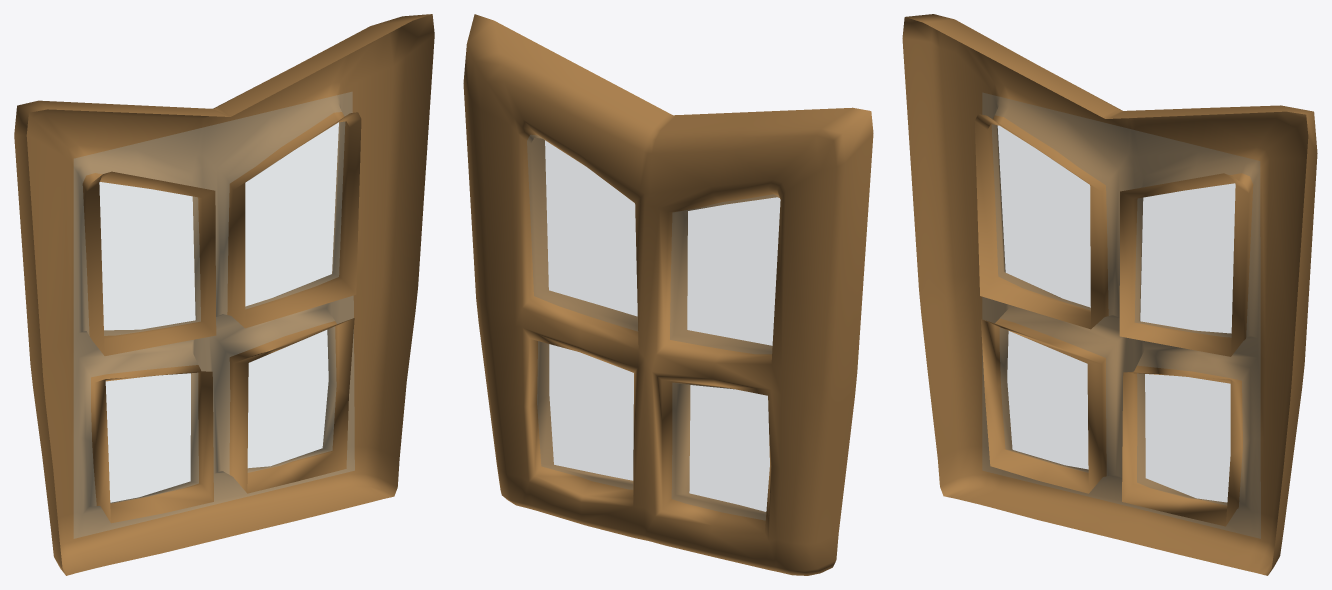
Rendered from props_window_1.fbx.
3 renders of one model, left to right at view 1: azimuth 30°, elevation 25°; view 2: azimuth 150°, elevation 25°; view 3: azimuth 330°, elevation 25°, orthographic.
Parts seen in each view (by area): view 1: Props_window1; view 2: Props_window1; view 3: Props_window1.
Part boxes in pixels (x1,y1,x2,y2): Props_window1: (14,14,434,575); Props_window1: (463,14,873,575); Props_window1: (902,14,1317,575).
Size of the model in its own units: 1.87 by 0.23 by 2.08.
